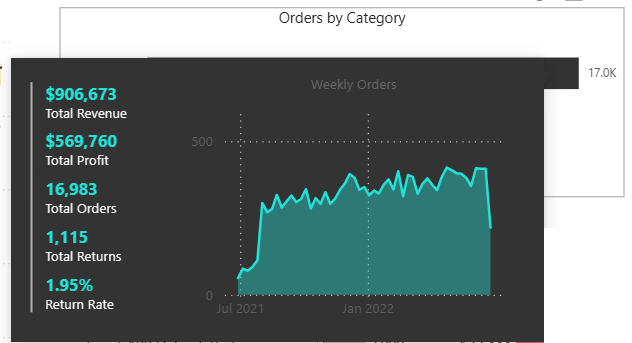

The dashboard page shown, as its layout file describes it:
{"tool":"powerbi","page":{"name":"Category Tooltip","canvas":[425,225],"ordinal":4},"visuals":[{"type":"multiRowCard","fields":{"Values":["Measure Table.Total Revenue","Measure Table.Total Profit","Measure Table.Total Orders","Measure Table.Total Returns","Measure Table.Return Rate"]},"box":[10,13,151,203],"z":0},{"type":"areaChart","title":"Weekly Orders","fields":{"Category":["Calendar Lookup.Start of Week"],"Y":["Measure Table.Total Orders"]},"box":[138,13,271,203],"z":1000}]}

Visuals, with their boxes in screenshot pixels (x1, y1, x2, y2), scaled from the page's 425x225 canvas onto the 632x343 screenshot:
multiRowCard - Measure Table.Total Revenue x Measure Table.Total Profit: bbox=[15, 20, 239, 329]
"Weekly Orders" areaChart: bbox=[205, 20, 608, 329]
